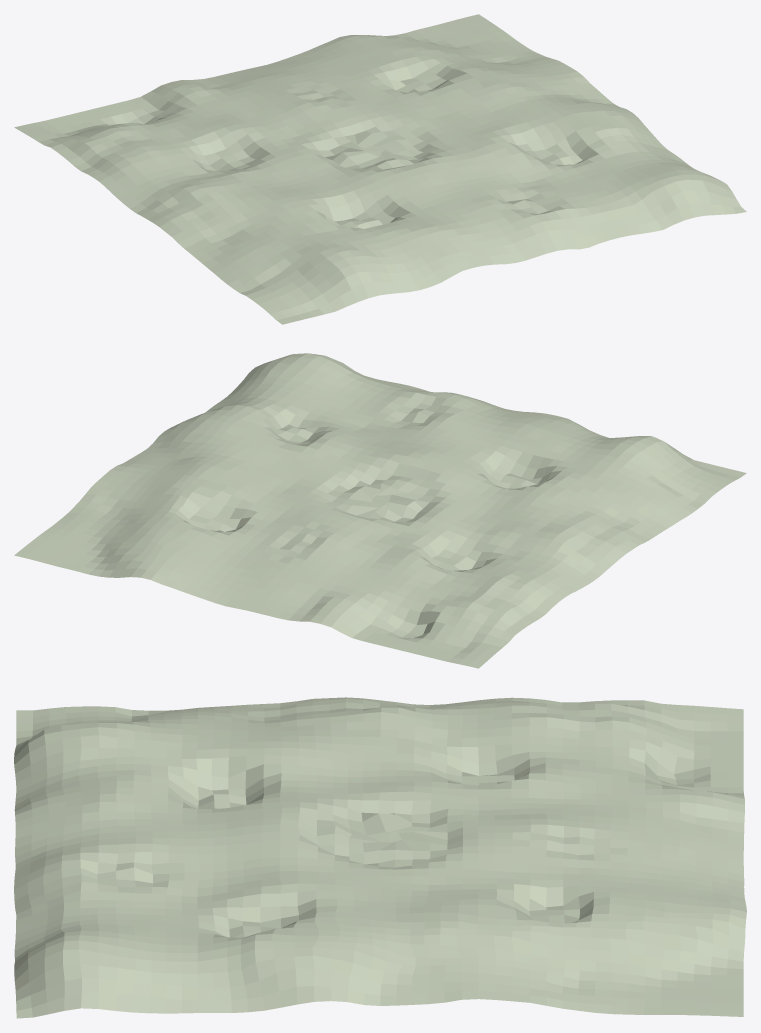
The model's file is Moon.glb.
The picture shows the model from 3 angles, top to bottom: view 1: azimuth 30°, elevation 25°; view 2: azimuth 150°, elevation 25°; view 3: azimuth 270°, elevation 25°; orthographic projection. The views are drawn at different scales.
Parts seen in each view (by area): view 1: Plane; view 2: Plane; view 3: Plane.
Part boxes in pixels (x1,y1,x2,y2): Plane: (14, 14, 746, 324); Plane: (14, 353, 746, 668); Plane: (14, 697, 746, 1018).
Bounding box in the file's own units: 184 × 14.15 × 183.
